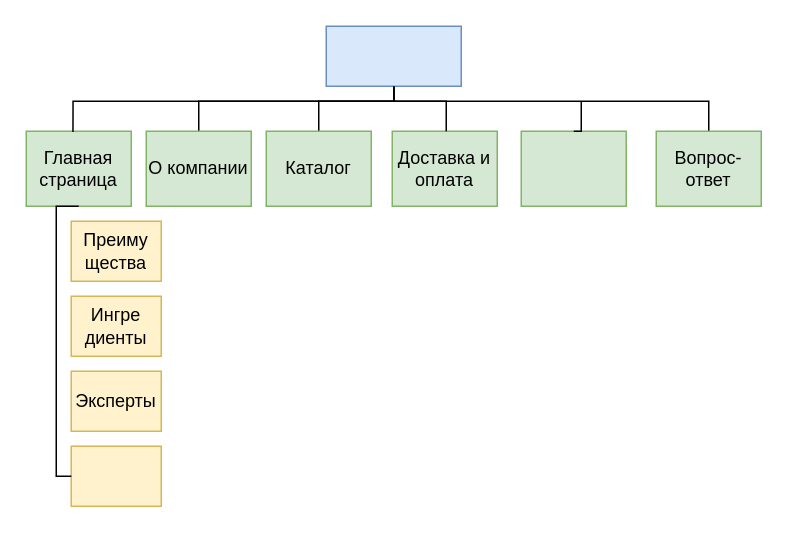
The diagram is 788 pixels wide and 533 high, and some of its shapes have lost their labels. The centre of each missing label's shape, as x and y in pixels:
Отзывы: [115,475]
Полезно знать: [573,168]
Сайт: [393,55]
